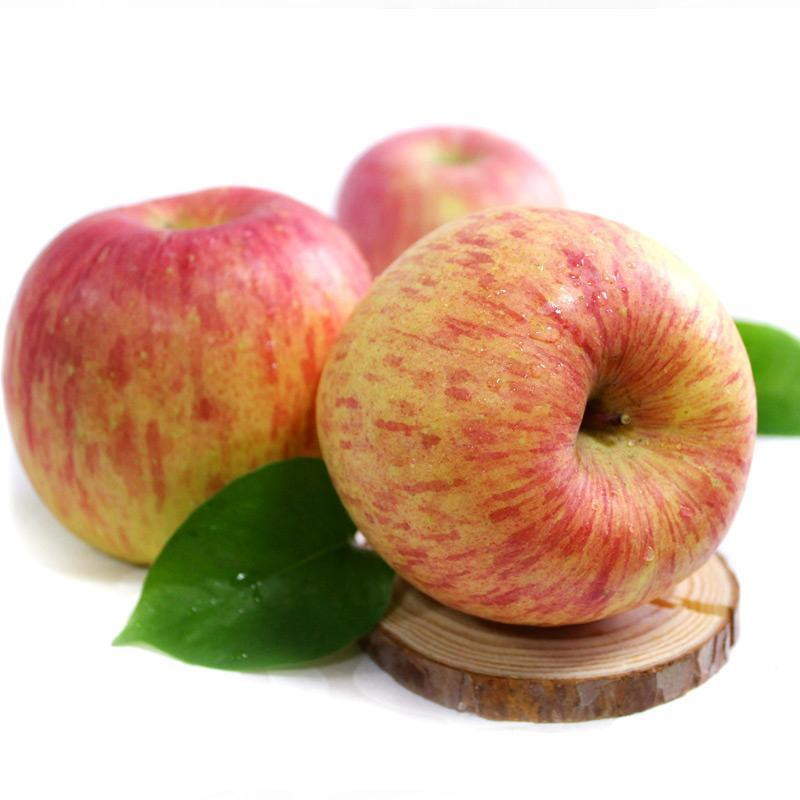apple: (314, 204, 757, 633), (3, 190, 385, 578)
